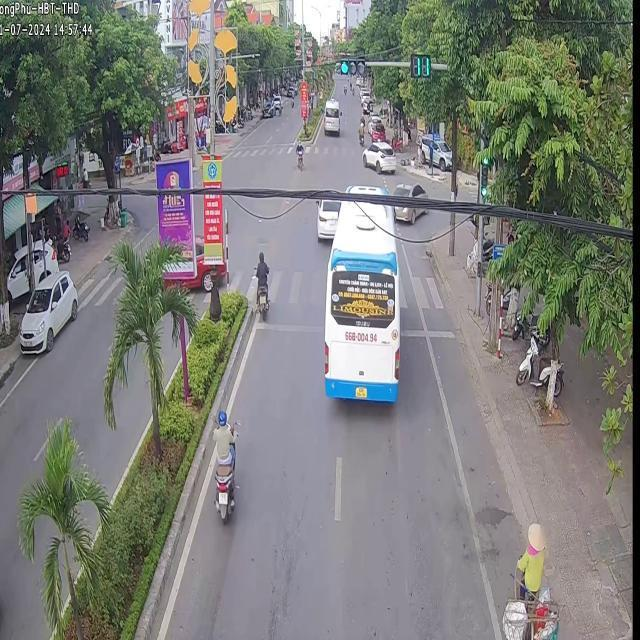car: (323, 200, 398, 400), (314, 196, 338, 240), (360, 140, 394, 171)
green_light: (336, 54, 378, 75), (479, 156, 487, 199)
motobike: (212, 409, 238, 520), (253, 251, 267, 316)
stop_line: (254, 320, 323, 333), (399, 327, 452, 338)
